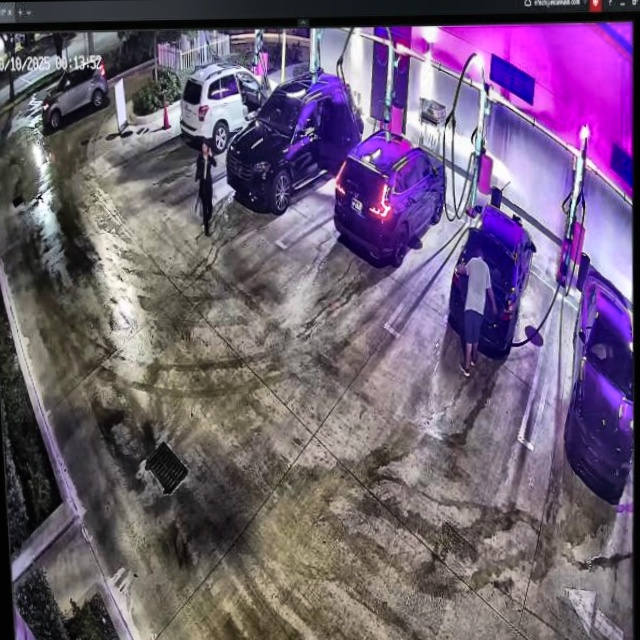Car: (221, 74, 365, 212), (331, 125, 449, 261), (449, 201, 532, 362), (174, 56, 282, 148)
